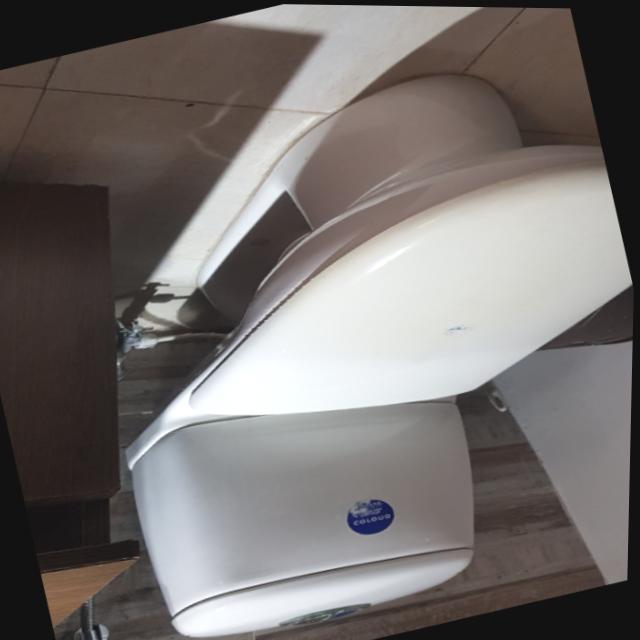toilet: (47, 33, 639, 640)
